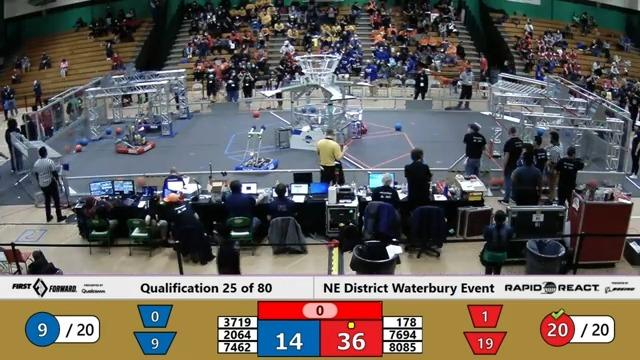robot: (230, 119, 283, 182), (130, 89, 173, 135), (331, 94, 376, 137), (111, 118, 160, 157)
